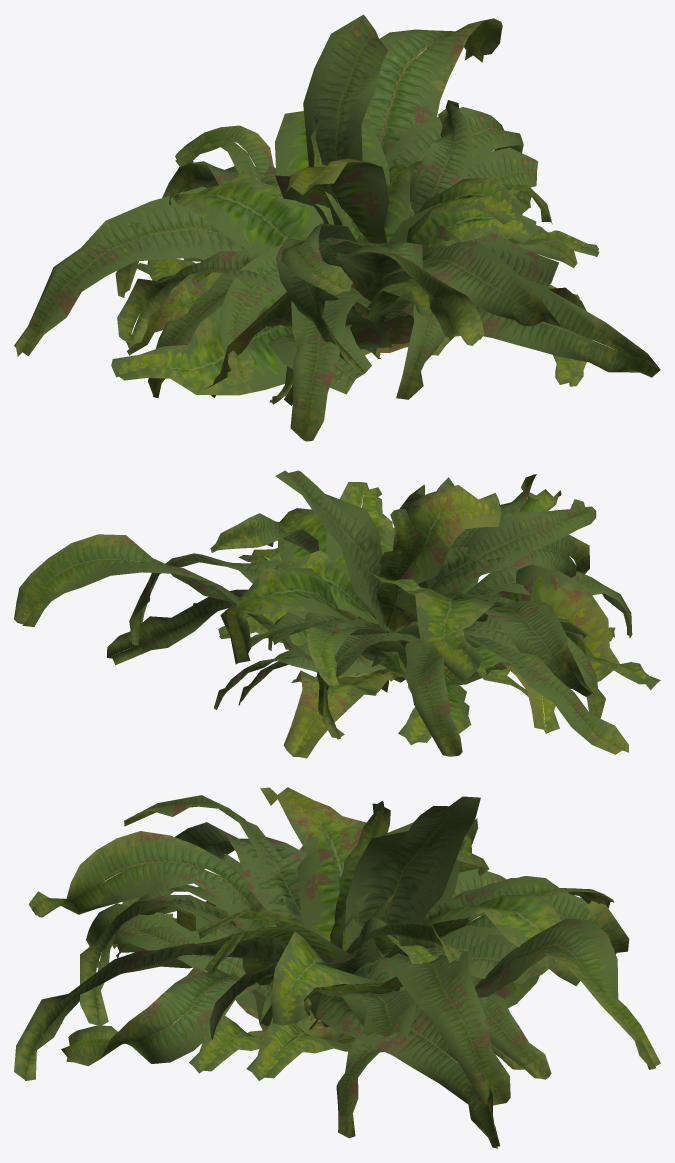
The model's file is scatter_fern.gltf.
3 renders of one model, top to bottom at view 1: azimuth 30°, elevation 25°; view 2: azimuth 150°, elevation 25°; view 3: azimuth 270°, elevation 25°, orthographic. The views are drawn at different scales.
Visible parts, largest first — view 1: fern_1, fern_2, fern_3, fern_0; view 2: fern_1, fern_2, fern_0, fern_3; view 3: fern_1, fern_2, fern_0, fern_3.
Boxes of the visible parts, box(x1,y1,x2,y2) form: fern_1: box(14, 14, 660, 441); fern_2: box(111, 116, 591, 405); fern_3: box(137, 195, 579, 404); fern_0: box(198, 100, 558, 355); fern_1: box(14, 470, 632, 758); fern_2: box(107, 477, 660, 756); fern_0: box(210, 513, 528, 709); fern_3: box(268, 554, 615, 744); fern_1: box(14, 787, 660, 1138); fern_2: box(61, 795, 614, 1148); fern_0: box(116, 893, 551, 1079); fern_3: box(128, 897, 407, 1073).
Bounding box in the file's own units: 0.9903 × 0.4277 × 0.8945.
Materials: 1 (1 with a texture image).
